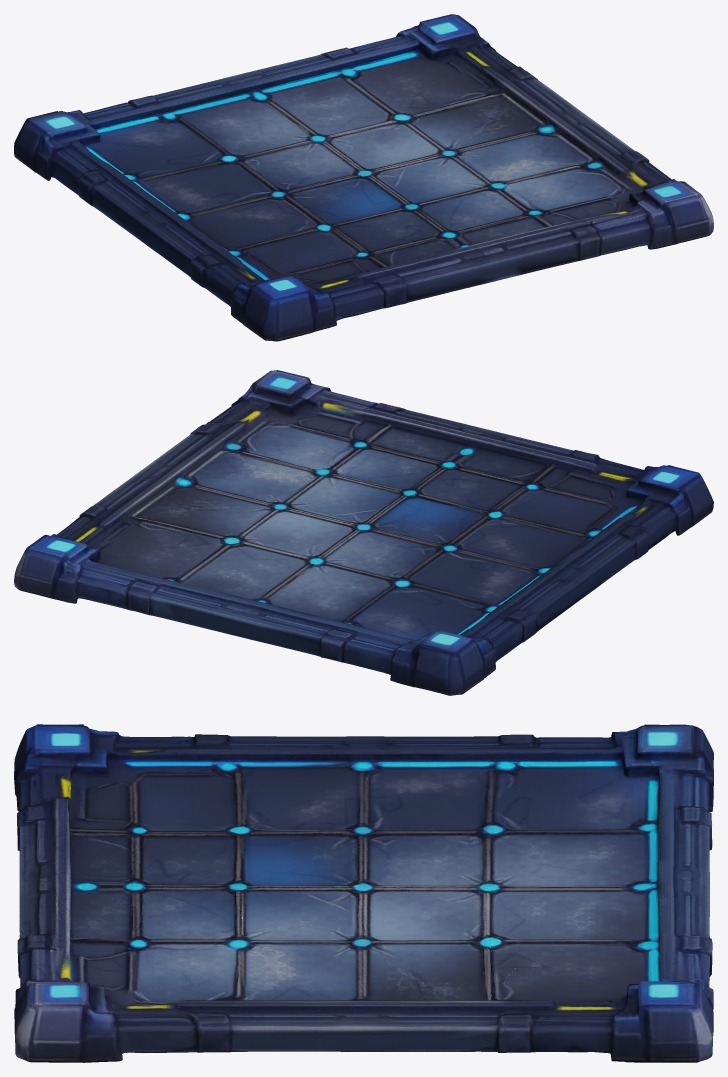
File: tile.fbx
3 views of the same model, one above another, from view 1: azimuth 30°, elevation 25°; view 2: azimuth 150°, elevation 25°; view 3: azimuth 270°, elevation 25° (orthographic). The views are drawn at different scales.
Parts seen in each view (by area): view 1: geometry_0.001; view 2: geometry_0.001; view 3: geometry_0.001.
Part boxes in pixels (x1,y1,x2,y2): geometry_0.001: (14, 14, 713, 341); geometry_0.001: (14, 370, 713, 695); geometry_0.001: (14, 724, 713, 1062).
Bounding box in the file's own units: 1.99 × 1.98 × 0.1599.
Materials: 1 (1 with a texture image).
